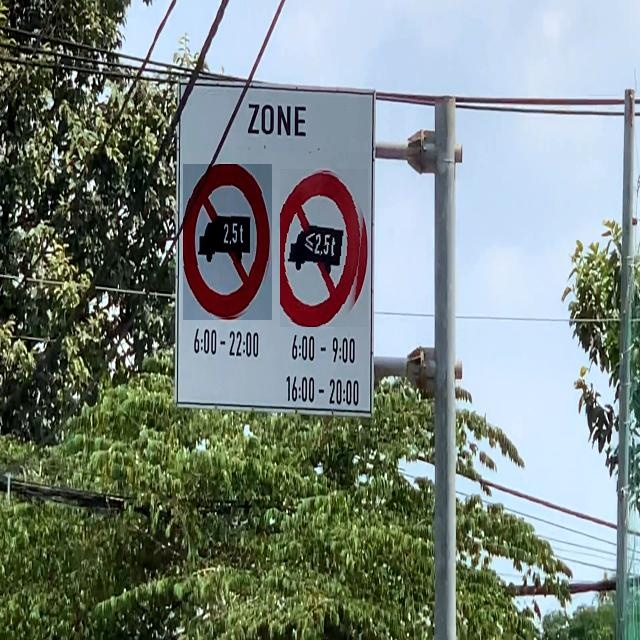bien_cam: (280, 169, 368, 327), (183, 164, 272, 320)
